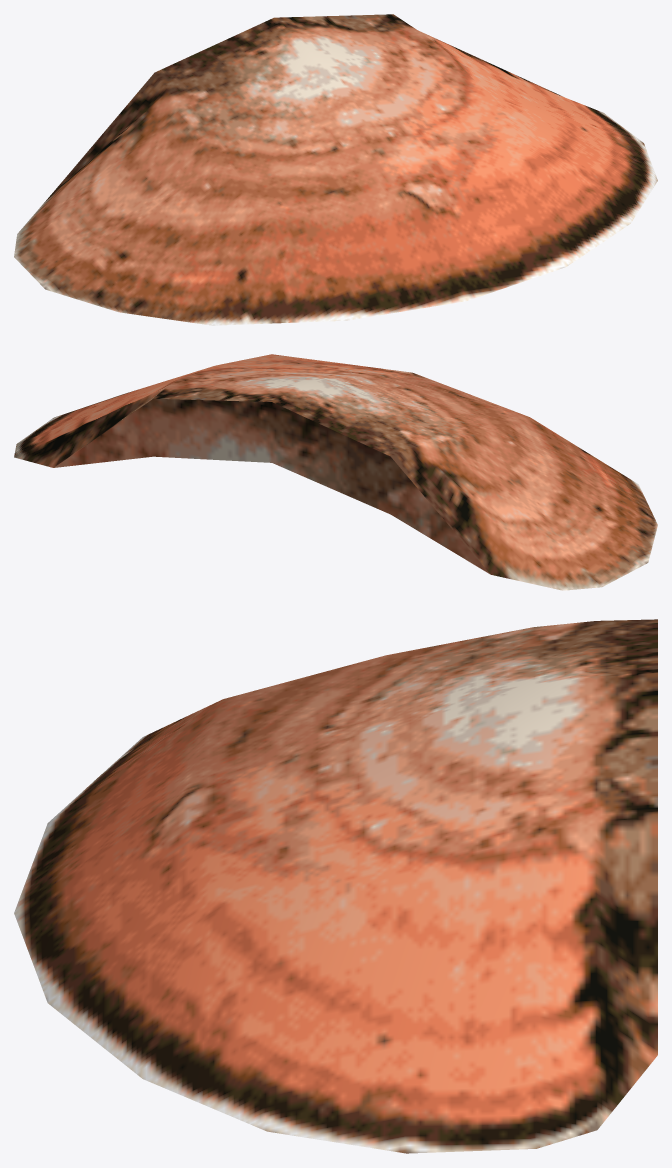
Rendered from fp_bracketfungus.glb.
3 renders of one model, top to bottom at view 1: azimuth 30°, elevation 25°; view 2: azimuth 150°, elevation 25°; view 3: azimuth 270°, elevation 25°, orthographic. The views are drawn at different scales.
Visible parts, largest first — view 1: _MeshInstance3D_22; view 2: _MeshInstance3D_22; view 3: _MeshInstance3D_22.
Part boxes in pixels (x1,y1,x2,y2): _MeshInstance3D_22: (14,14,657,325); _MeshInstance3D_22: (14,354,657,590); _MeshInstance3D_22: (14,619,657,1153).
Size of the model in its own units: 0.345 by 0.0787 by 0.1919.
Materials: 1 (1 with a texture image).
